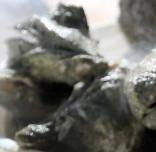3: (8, 17, 104, 63)
Oyster-Closed: (54, 76, 145, 152), (23, 51, 109, 83), (16, 123, 56, 150)
Oyster-Open: (0, 72, 64, 120), (128, 49, 156, 130), (118, 0, 156, 57), (52, 3, 89, 33)
